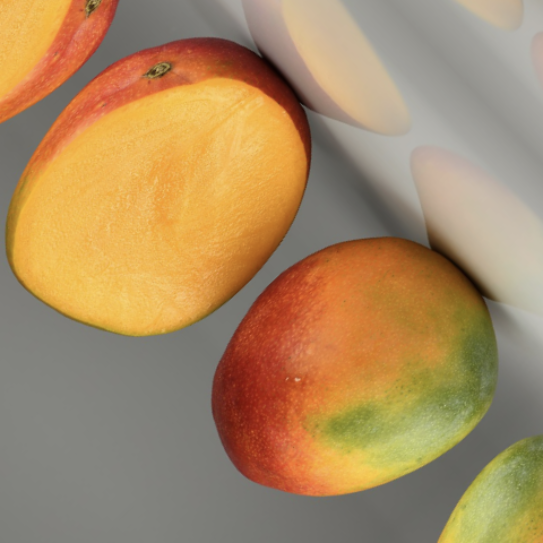mango: (0, 0, 397, 411), (153, 156, 543, 543)
